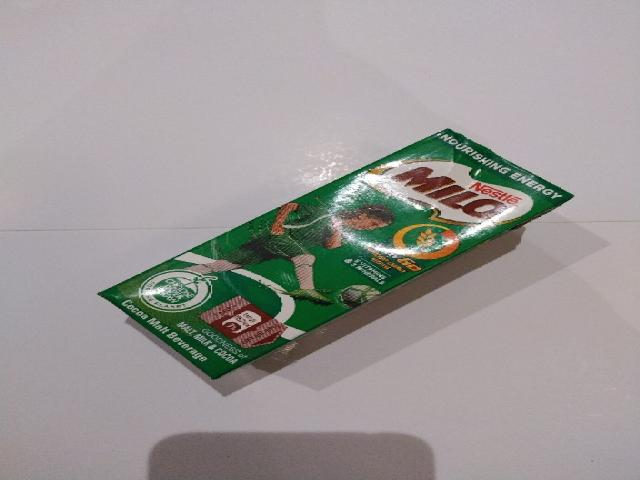drink_box: (98, 129, 572, 378)
